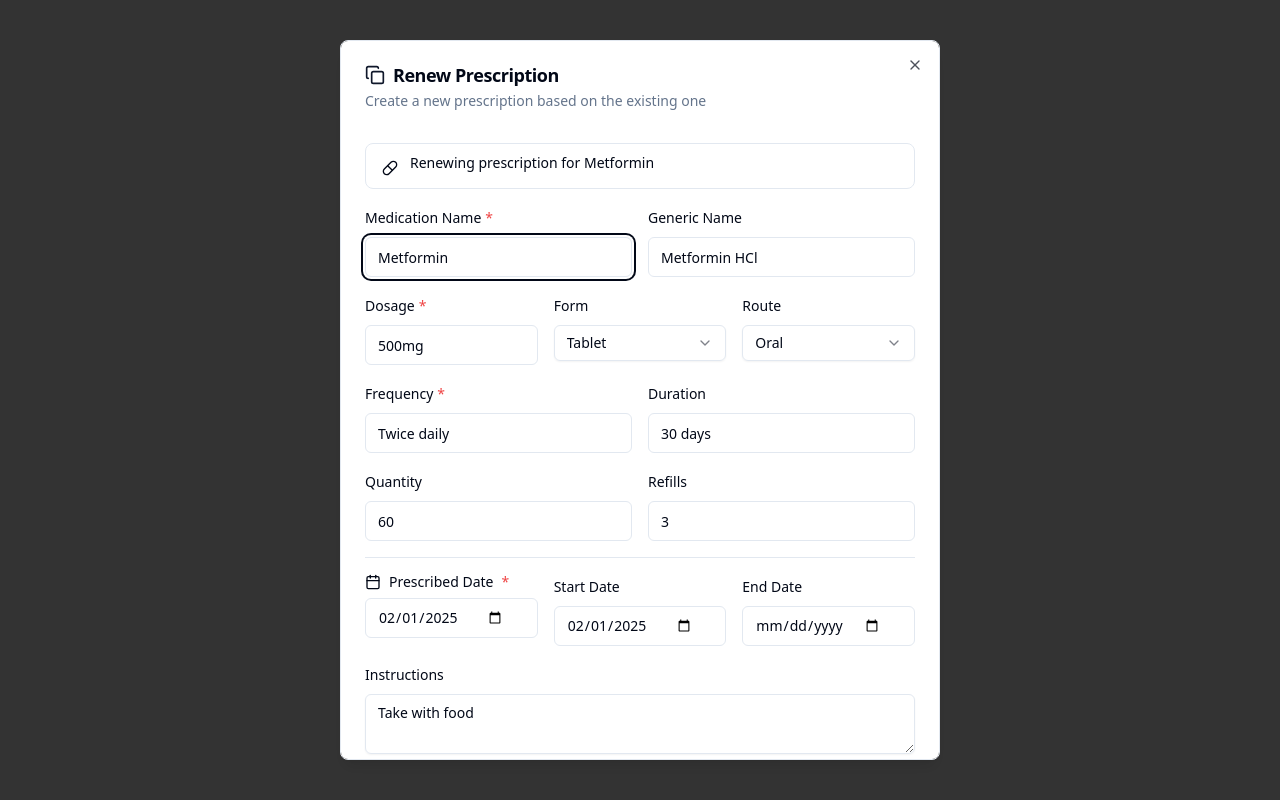
it: RenewDialog › Form Validation › disables confirm when dosage is empty
Clear the field showing "500mg": (451, 345) [365,325,538,365]
(page scrolled)
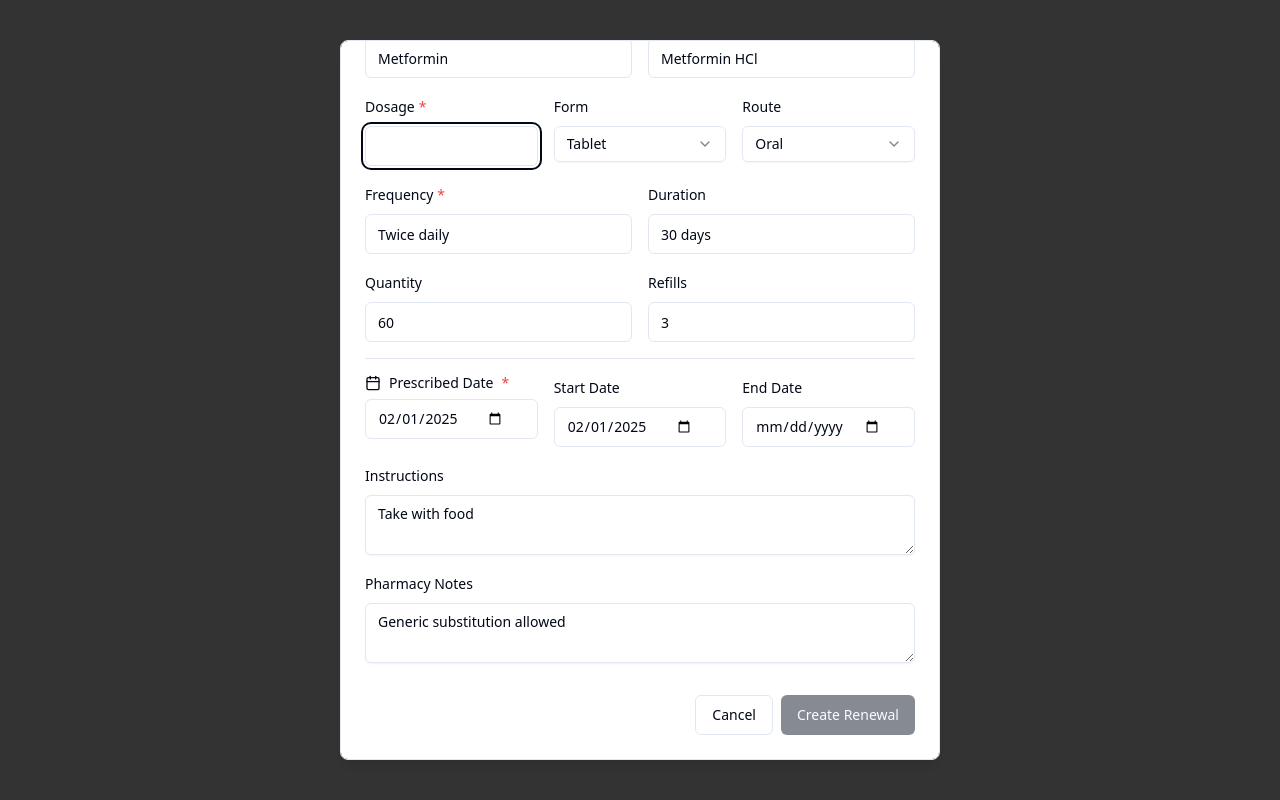
Now the button "Create Renewal" is disabled, box [781,695,915,735]
